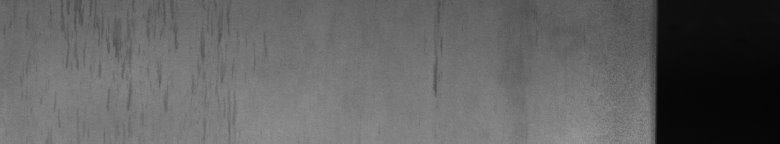ka: (67, 4, 221, 104)
